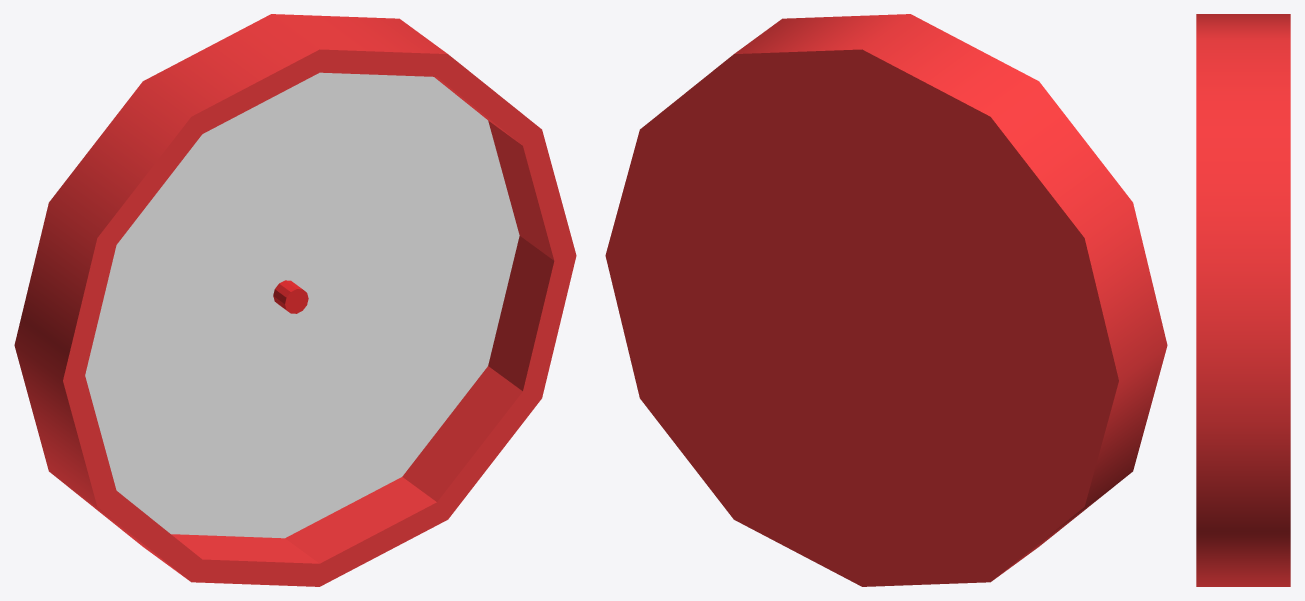
The model's file is Itr_Obj_clock1_05.FBX.
3 views of the same model, side by side, from view 1: azimuth 30°, elevation 25°; view 2: azimuth 150°, elevation 25°; view 3: azimuth 270°, elevation 25° (orthographic). The views are drawn at different scales.
Parts seen in each view (by area): view 1: Itr_Obj_clock1_05; view 2: Itr_Obj_clock1_05; view 3: Itr_Obj_clock1_05.
Part boxes in pixels (bbox=[...]): Itr_Obj_clock1_05: bbox=[14, 14, 576, 586]; Itr_Obj_clock1_05: bbox=[605, 14, 1167, 586]; Itr_Obj_clock1_05: bbox=[1196, 14, 1290, 586].
Size of the model in its own units: 12.23 by 12.23 by 2.
